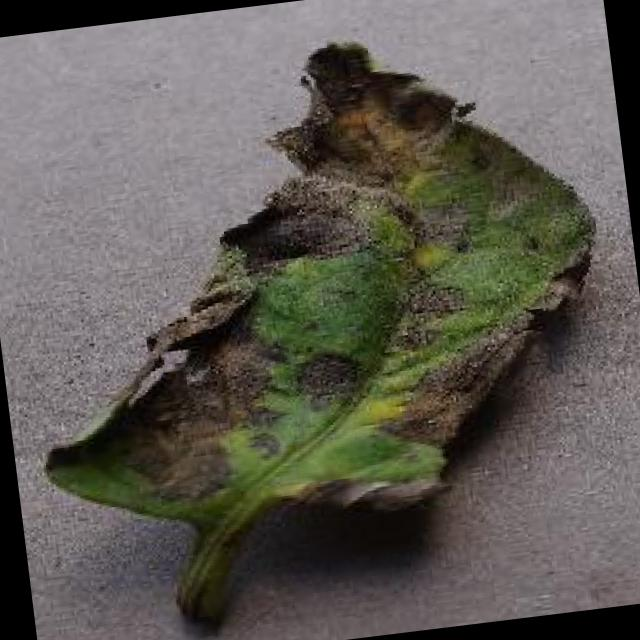Tomato_Early_Blight: (22, 14, 633, 569)
